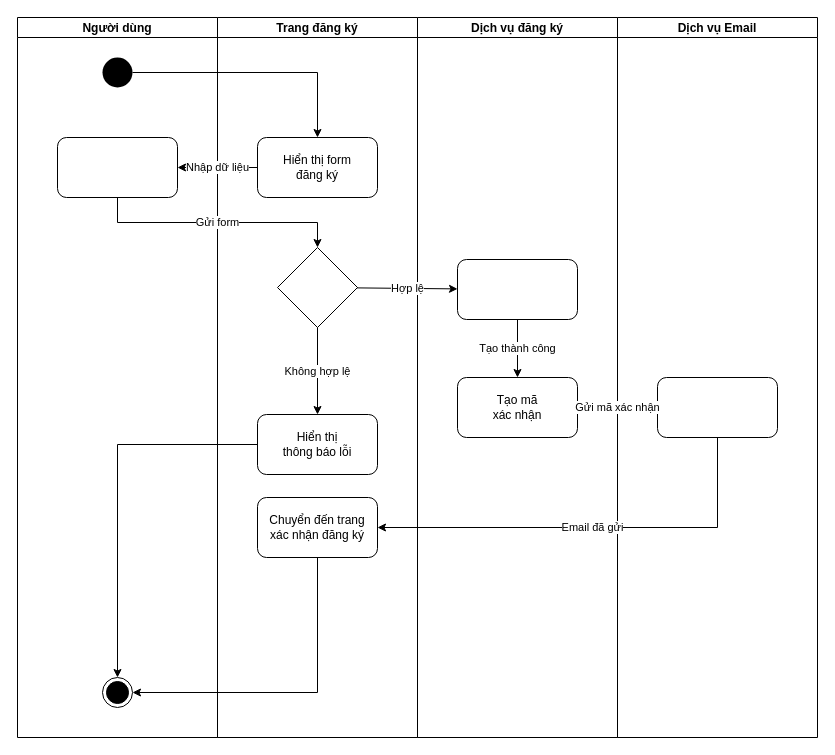
This 835x755 diagram has some shape labels left out. The shapes that lost their labels are listed below. From the top down, each one's centre as x and y in pixels, then its label:
the point at 117,167: Nhập thông tin đăng ký
the point at 317,287: Kiểm tra dữ liệu form
the point at 517,289: Tạo tài khoản người dùng
the point at 717,407: Gửi email xác nhận
